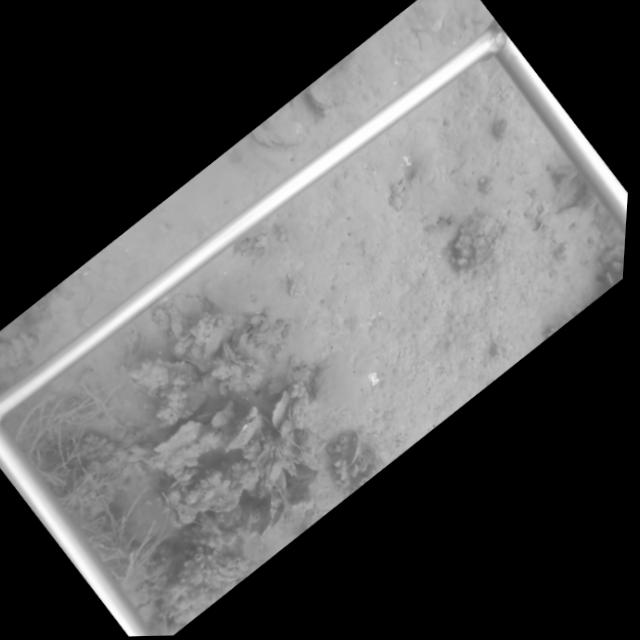Oyster-Closed: (307, 71, 340, 112), (172, 291, 216, 321), (220, 337, 258, 371), (287, 395, 318, 433)
Oyster-Indeterminate: (125, 357, 208, 430), (252, 93, 313, 147), (146, 419, 208, 472), (268, 389, 291, 433), (345, 427, 363, 472)
